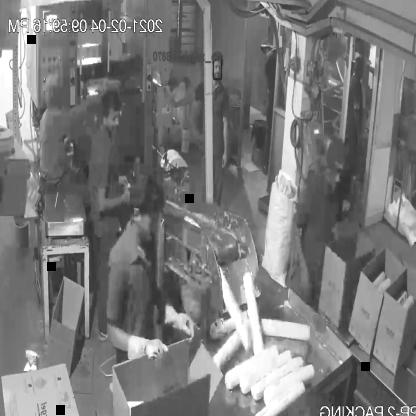glove: (154, 287, 196, 345), (122, 329, 172, 371)
no_glove: (288, 197, 326, 314), (95, 180, 134, 224), (162, 76, 200, 116), (216, 108, 233, 180)
